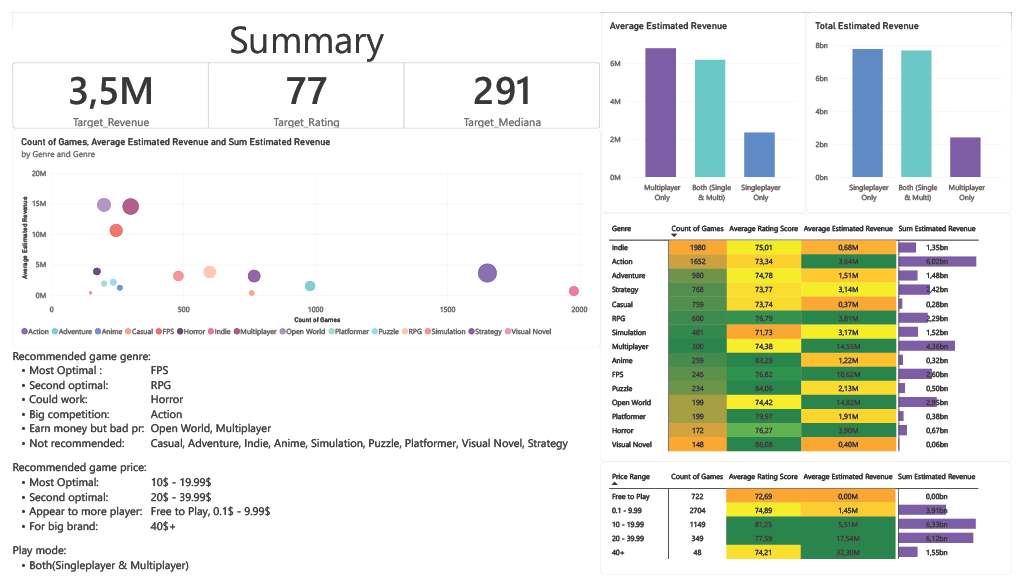

This screenshot's page, from the dashboard's own definition file:
{"tool":"powerbi","page":{"name":"Summary","canvas":[1920,1080],"ordinal":3},"visuals":[{"type":"textbox","box":[0,0,1130,95.7],"z":0},{"type":"pivotTable","fields":{"Rows":["steam_genres_tag.tag_genre_name"],"Values":["CountNonNull(steam.appid)","Avg(steam.rating_score)","Avg(steam.estimated_revenue)","Sum(steam.estimated_revenue)"]},"box":[1130,385.7,790,477.1],"z":1000},{"type":"cardVisual","fields":{"Data":["steam.Target_Revenue","steam.Target_Rating","steam.Target_Price"]},"box":[0,95.7,1130,127.1],"z":2000},{"type":"scatterChart","fields":{"Category":["steam_genres_tag.tag_genre_name"],"Series":["steam_genres_tag.tag_genre_name"],"Size":["Sum(steam.estimated_revenue)1"],"X":["CountNonNull(steam.appid)"],"Y":["Avg(steam.estimated_revenue)"]},"box":[0,222.9,1130,421.4],"z":3000},{"type":"textbox","box":[0,644.3,1130,435.7],"z":4000},{"type":"pivotTable","fields":{"Rows":["steam.price_range"],"Values":["CountNonNull(steam.appid)","Avg(steam.rating_score)","Avg(steam.estimated_revenue)","Sum(steam.estimated_revenue)"]},"box":[1130,862.9,790,217.1],"z":5000},{"type":"columnChart","title":"Average Estimated Revenue","fields":{"Category":["steam_categories.play_mode"],"Series":["steam_categories.play_mode"],"Y":["Avg(steam.estimated_revenue)"]},"box":[1130.7,0,393.9,385.2],"z":6000},{"type":"columnChart","title":"Total Estimated Revenue","fields":{"Category":["steam_categories.play_mode"],"Series":["steam_categories.play_mode"],"Y":["Sum(steam.estimated_revenue)"]},"box":[1526.1,0,393.9,385.2],"z":6001}]}

Visuals, with their boxes in screenshot pixels (x1, y1, x2, y2), scaled from the page's 1920x1080 canvas onto the 1024x587 screenshot:
textbox: <bbox>0, 0, 603, 52</bbox>
pivotTable - steam_genres_tag.tag_genre_name x CountNonNull(steam.appid): <bbox>603, 210, 1023, 469</bbox>
cardVisual - steam.Target_Revenue x steam.Target_Rating: <bbox>0, 52, 603, 121</bbox>
scatterChart - steam_genres_tag.tag_genre_name x steam_genres_tag.tag_genre_name: <bbox>0, 121, 603, 350</bbox>
textbox: <bbox>0, 350, 603, 586</bbox>
pivotTable - steam.price_range x CountNonNull(steam.appid): <bbox>603, 469, 1023, 586</bbox>
"Average Estimated Revenue" columnChart: <bbox>603, 0, 813, 209</bbox>
"Total Estimated Revenue" columnChart: <bbox>814, 0, 1023, 209</bbox>
